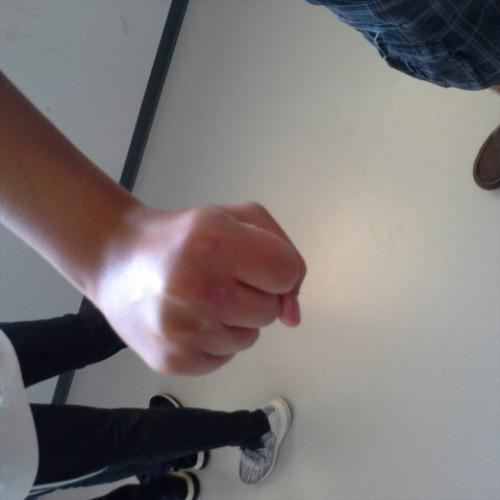rock: (99, 195, 310, 385)
